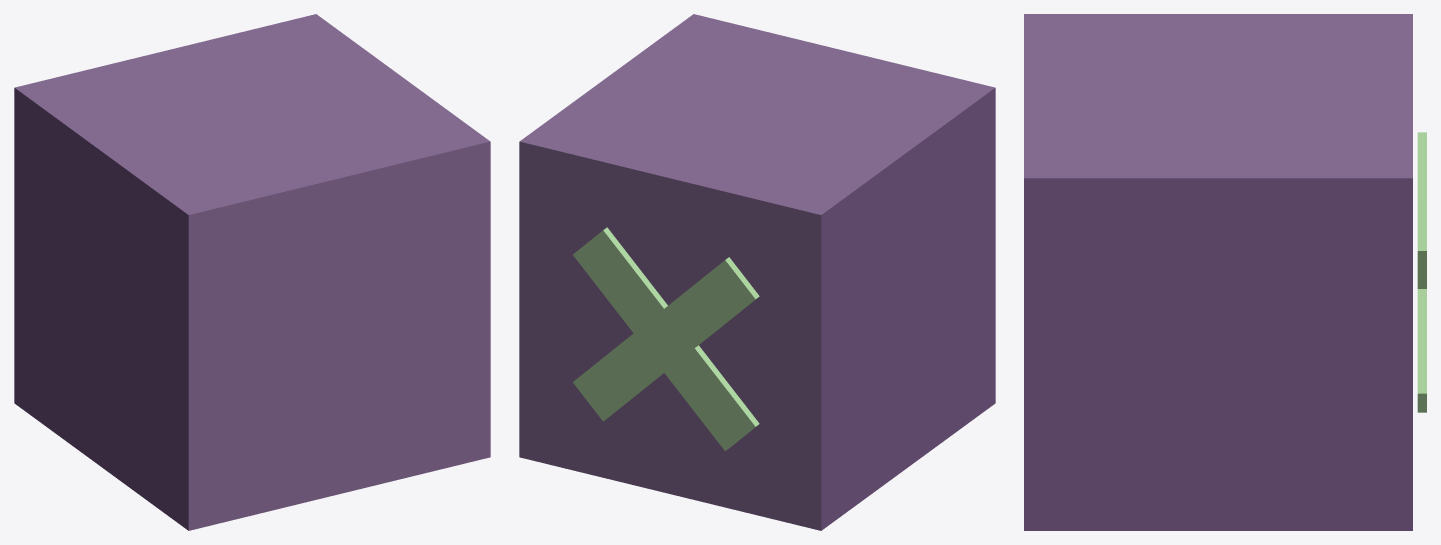
File: cursed.glb
3 renders of one model, left to right at view 1: azimuth 30°, elevation 25°; view 2: azimuth 150°, elevation 25°; view 3: azimuth 270°, elevation 25°, orthographic. The views are drawn at different scales.
Visible parts, largest first — view 1: cursed2; view 2: cursed2; view 3: cursed2.
Boxes of the visible parts, left/top/right/bottom form: cursed2: left=14, top=14, right=490, bottom=530; cursed2: left=519, top=14, right=995, bottom=530; cursed2: left=1024, top=14, right=1426, bottom=530.
Size of the model in its own units: 0.42 by 0.42 by 0.435.
